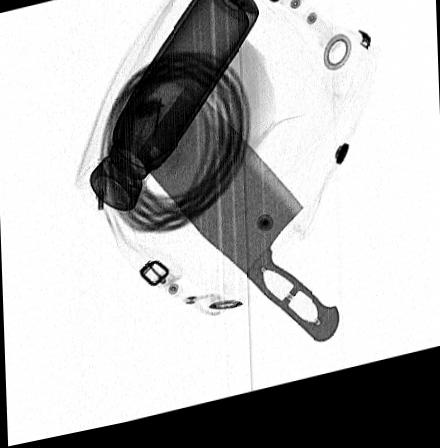Knife: (135, 89, 340, 356)
